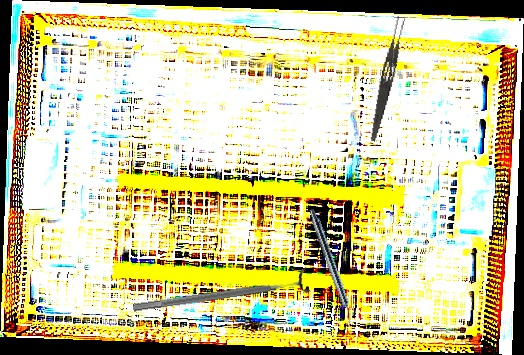Dressing Forceps: (367, 14, 409, 144)
Fixation Ring: (130, 266, 311, 322)
Handpiece: (305, 207, 358, 328)
